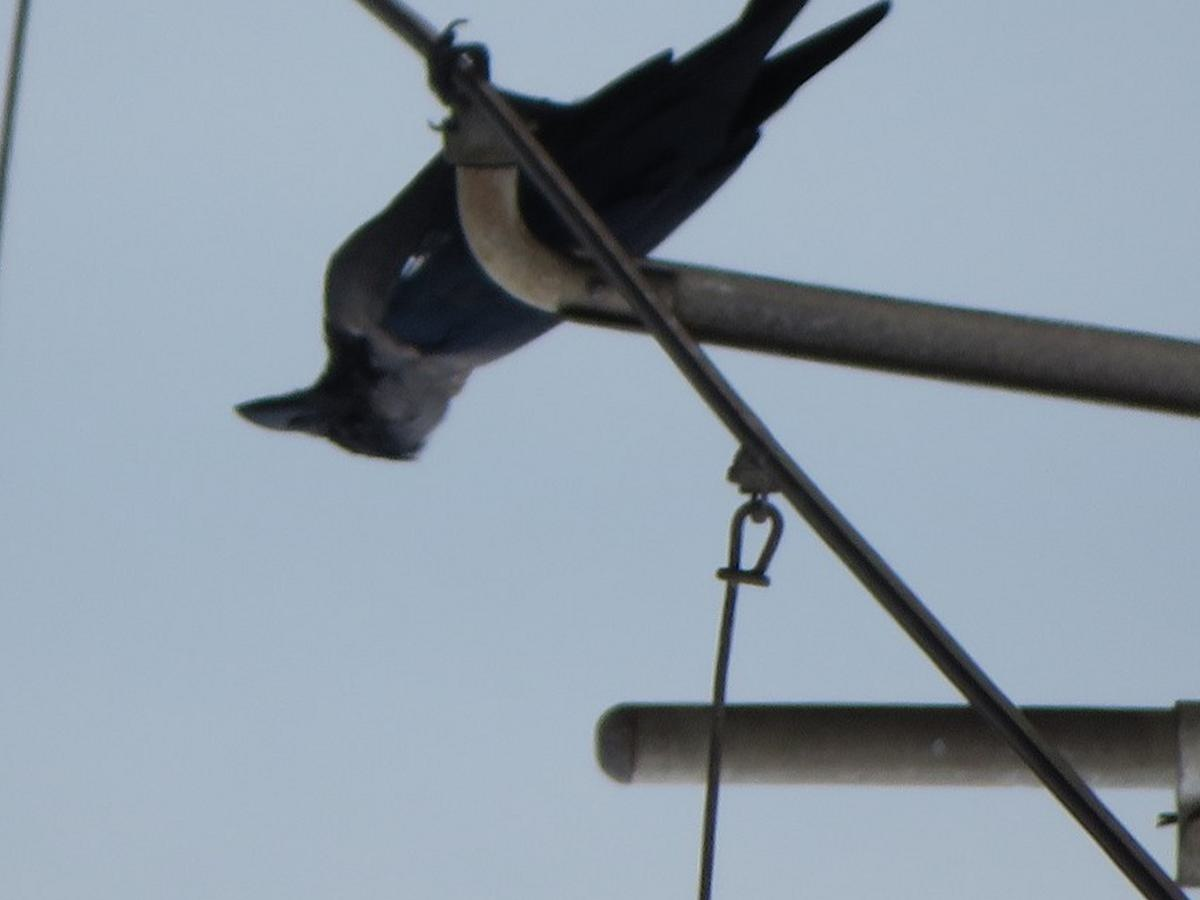crow: (235, 1, 924, 473)
